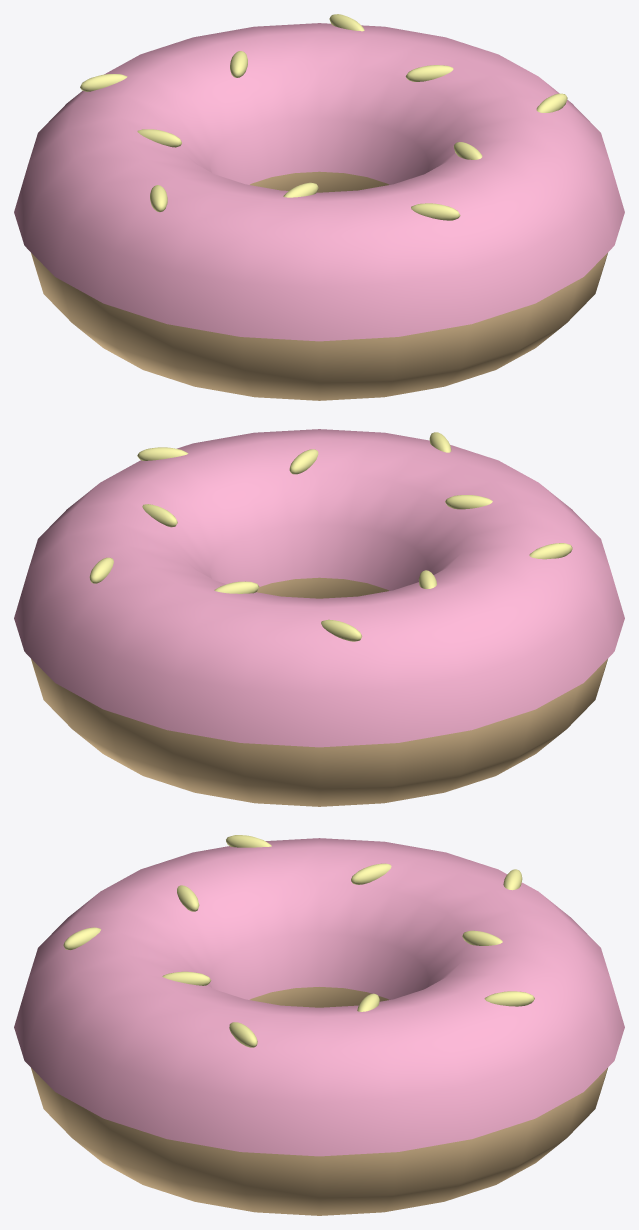
Rendered from Donut.fbx.
3 views of the same model, one above another, from view 1: azimuth 30°, elevation 25°; view 2: azimuth 150°, elevation 25°; view 3: azimuth 270°, elevation 25° (orthographic).
Visible parts, largest first — view 1: Donut; view 2: Donut; view 3: Donut.
Boxes of the visible parts, x1,y1,x2,y2 form: Donut: [14, 14, 624, 400]; Donut: [14, 429, 624, 806]; Donut: [14, 835, 624, 1215].
Bounding box in the file's own units: 0.137 × 0.047 × 0.137.
